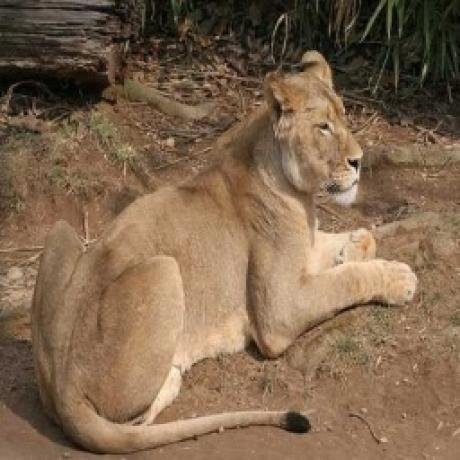Lion: (26, 48, 423, 459)
